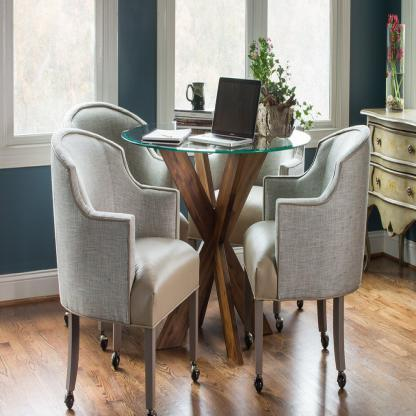chair: (30, 127, 203, 416), (229, 124, 363, 403), (54, 97, 182, 350), (218, 113, 313, 332)
table: (117, 114, 315, 363)
